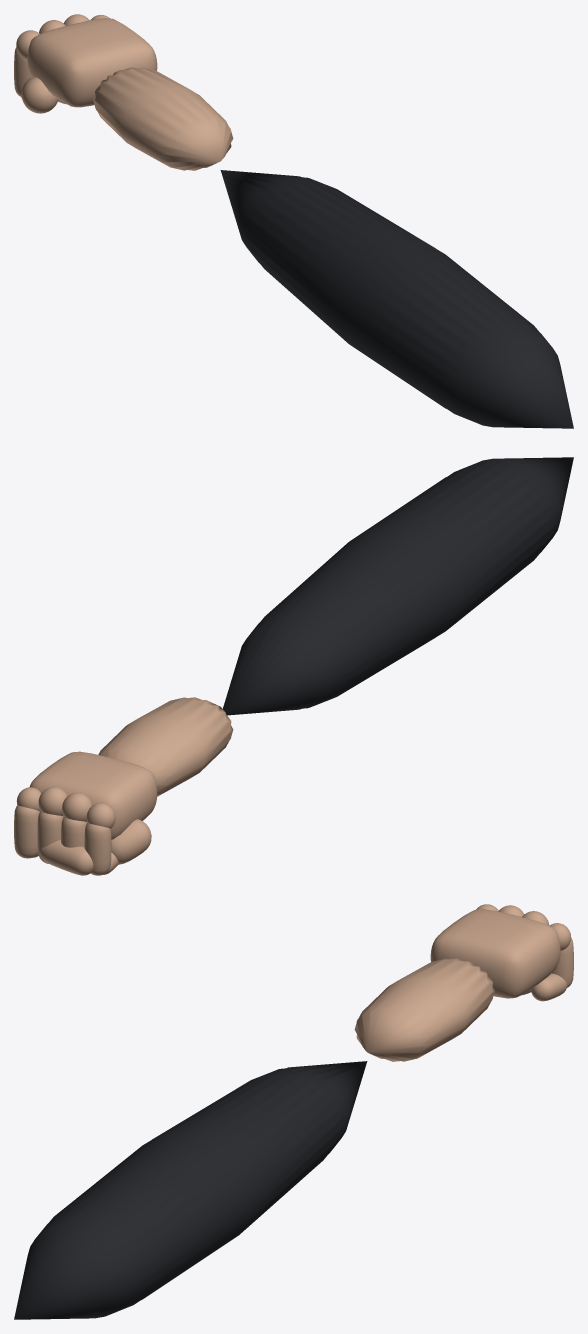
File: his_fist_r.glb
The picture shows the model from 3 angles, top to bottom: view 1: azimuth 30°, elevation 25°; view 2: azimuth 150°, elevation 25°; view 3: azimuth 330°, elevation 25°; orthographic projection.
Parts seen in each view (by area): view 1: his_fist_r; view 2: his_fist_r; view 3: his_fist_r.
Boxes of the visible parts, box(x1,y1,x2,y2) form: his_fist_r: box(14, 14, 573, 428); his_fist_r: box(14, 457, 573, 875); his_fist_r: box(14, 904, 573, 1319).
Size of the model in its own units: 0.1163 by 0.0955 by 0.8497.
